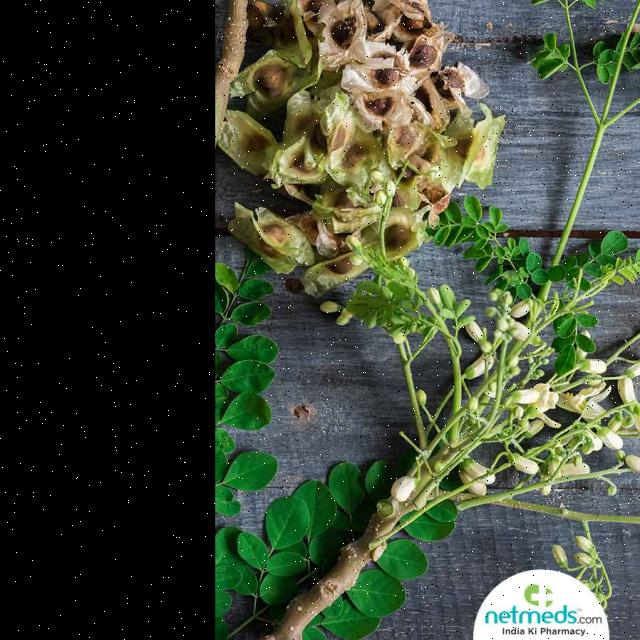Sajjyun: (0, 0, 215, 640)
